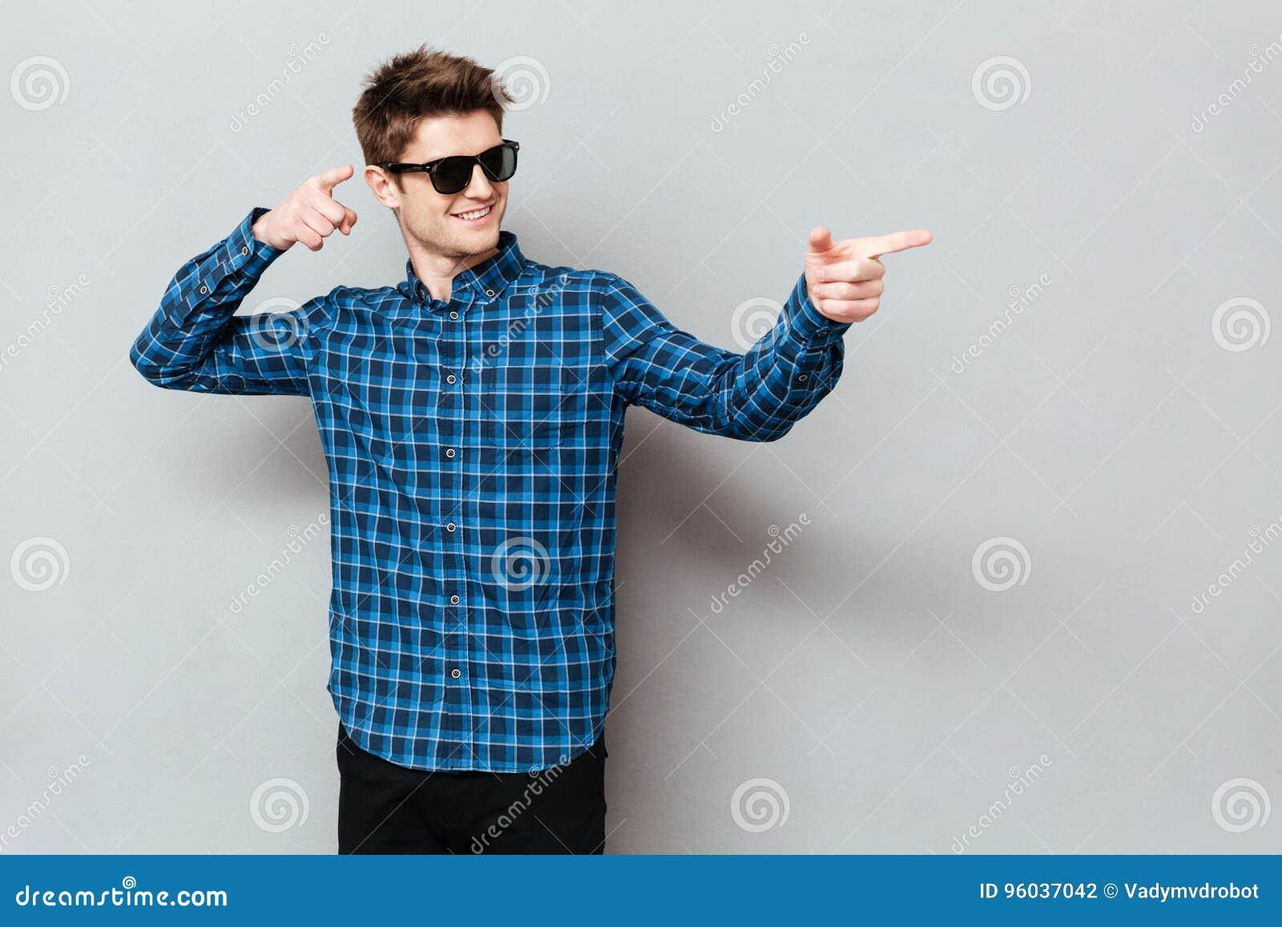sunglasses: (398, 134, 531, 203)
